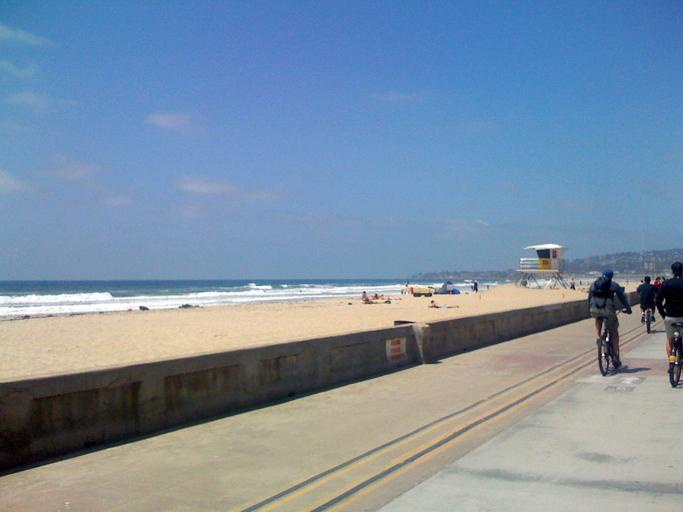non-vehicle: (594, 306, 624, 377), (663, 321, 682, 388), (642, 307, 652, 335)
